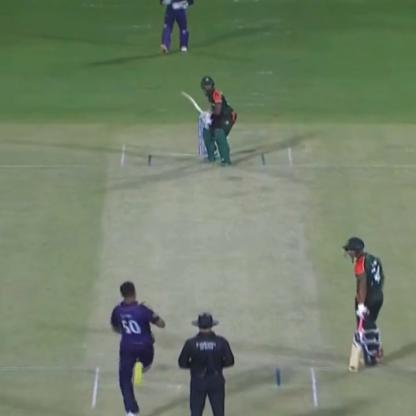bat: (170, 80, 218, 134)
pitch: (91, 135, 328, 412)
